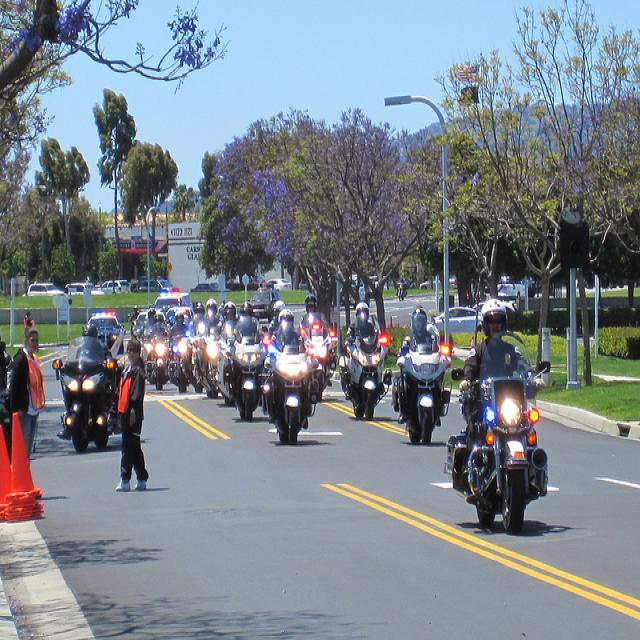motor: (445, 331, 551, 536), (53, 334, 121, 454), (262, 317, 325, 444), (392, 336, 453, 444), (337, 313, 393, 422), (226, 333, 268, 418), (301, 325, 340, 404), (191, 307, 223, 398), (219, 319, 238, 410), (168, 333, 194, 394), (146, 334, 170, 391), (395, 280, 408, 302)
